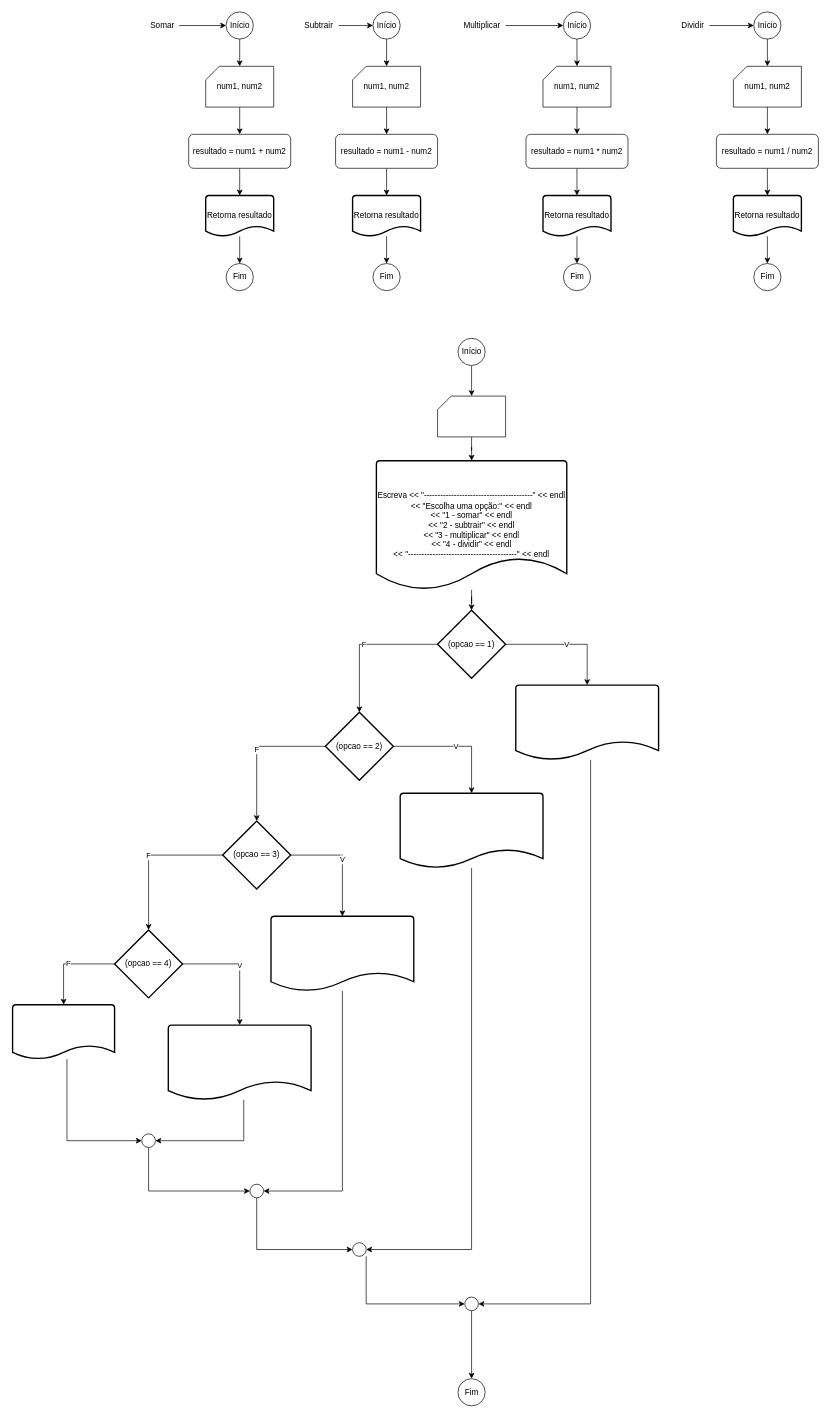
Some shapes in this 830 by 1418 pixel diagram are drawn without their labels. Each missing label, with the centre of its shape:
Escreva << "Opção inválida!" << endl: (x=63, y=1031)
Escreva << num1 << " + " << num2 << " = " << Somar(num1, num2) << endl: (x=587, y=722)
Escreva << num1 << " - " << num2 << " = " << Subtrair(num1, num2) << endl: (x=471, y=830)
Escreva << num1 << " / " << num2 << " = " << Dividir(num1, num2) << endl: (x=239, y=1062)
Escreva << num1 << " x " << num2 << " = " << Multiplicar(num1, num2) << endl: (x=342, y=953)
Leia num1, num2: (x=471, y=416)
